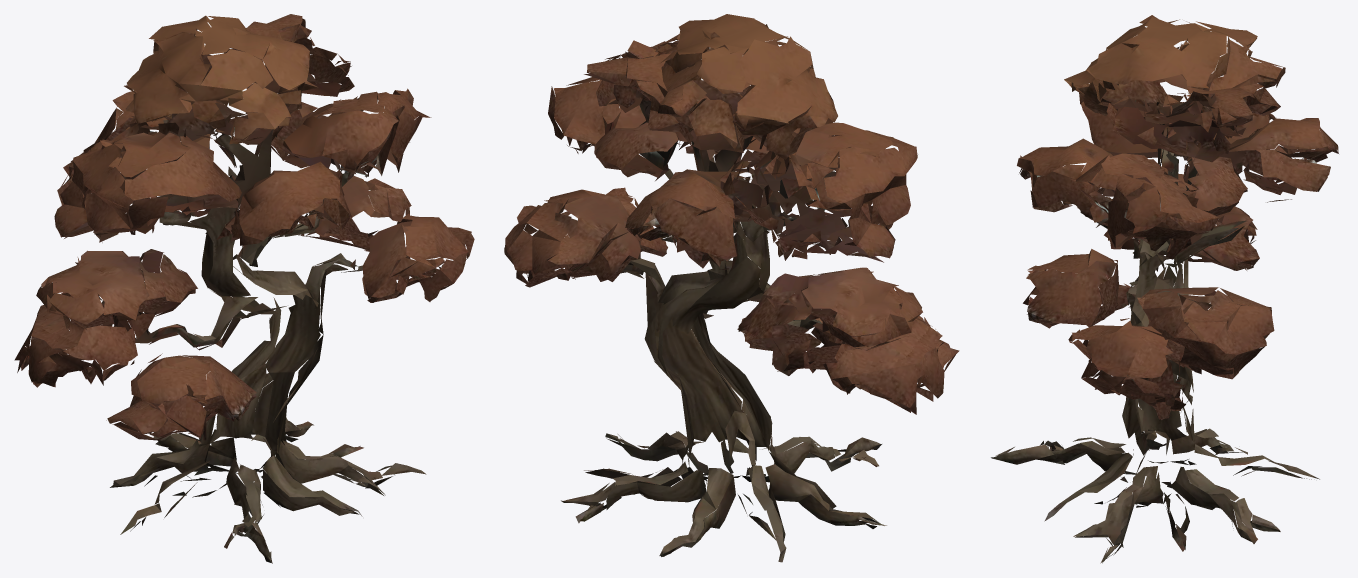
File: mapleTree.glb
The picture shows the model from 3 angles, left to right: view 1: azimuth 30°, elevation 25°; view 2: azimuth 150°, elevation 25°; view 3: azimuth 270°, elevation 25°; orthographic projection. The views are drawn at different scales.
Parts seen in each view (by area): view 1: Prop_mapleTree; view 2: Prop_mapleTree; view 3: Prop_mapleTree.
Part boxes in pixels (x1,y1,x2,y2): Prop_mapleTree: [14, 14, 474, 563]; Prop_mapleTree: [504, 14, 959, 562]; Prop_mapleTree: [991, 15, 1338, 563].
Bounding box in the file's own units: 4.59 × 4.79 × 3.32.
Materials: 1 (1 with a texture image).
